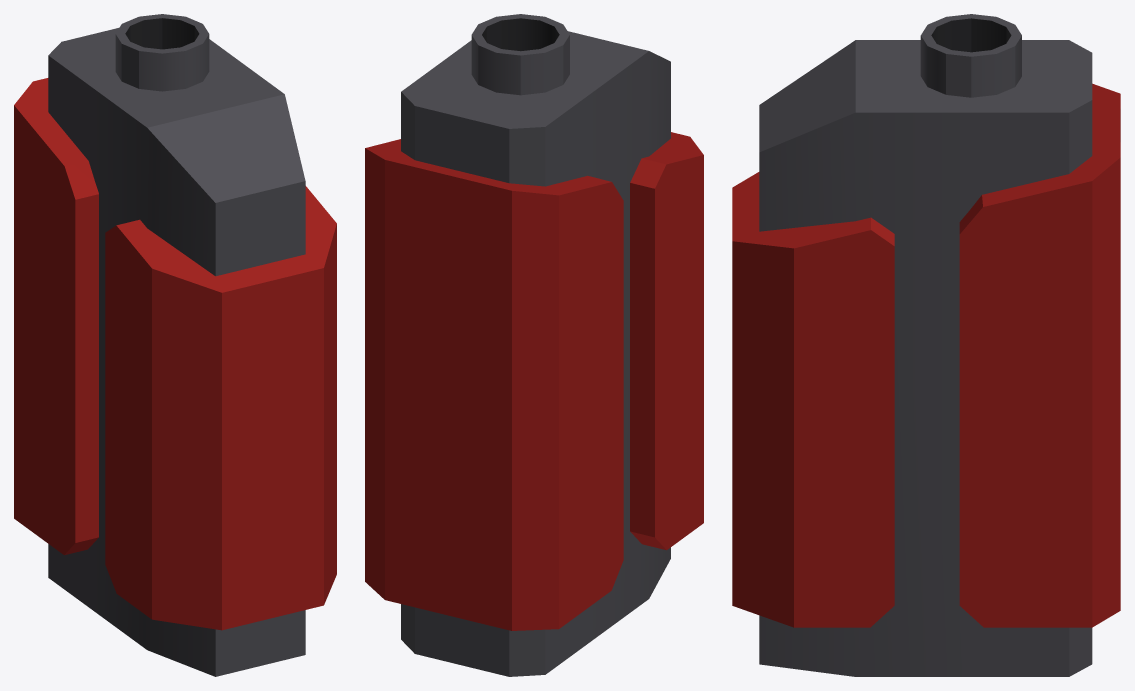
File: Msh_Barrel_B_V5.FBX
3 views of the same model, side by side, from view 1: azimuth 30°, elevation 25°; view 2: azimuth 150°, elevation 25°; view 3: azimuth 270°, elevation 25° (orthographic). The views are drawn at different scales.
Parts seen in each view (by area): view 1: Msh_Barrel_BV5; view 2: Msh_Barrel_BV5; view 3: Msh_Barrel_BV5.
Boxes of the visible parts, <box> form: Msh_Barrel_BV5: <box>14,14,336,676</box>; Msh_Barrel_BV5: <box>365,14,703,676</box>; Msh_Barrel_BV5: <box>732,14,1120,676</box>.
Bounding box in the file's own units: 0.048 × 0.0808 × 0.1391.
